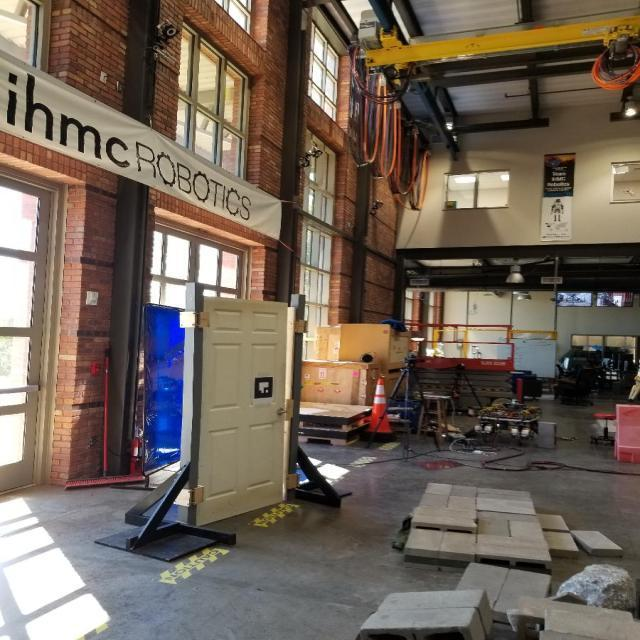door: (192, 293, 291, 526), (274, 404, 286, 418)
